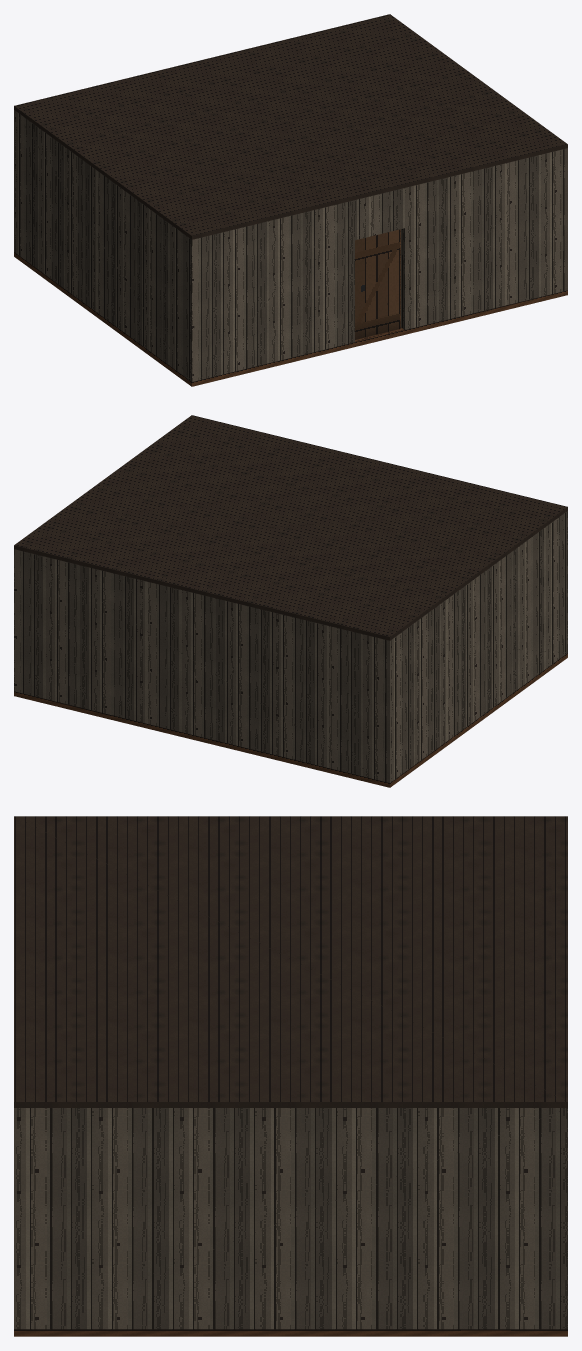
Rendered from armaria.glb.
3 views of the same model, one above another, from view 1: azimuth 30°, elevation 25°; view 2: azimuth 150°, elevation 25°; view 3: azimuth 270°, elevation 25° (orthographic). The views are drawn at different scales.
Visible parts, largest first — view 1: sala-col, teto-col; view 2: sala-col, teto-col; view 3: teto-col, sala-col.
Part boxes in pixels (left/top/right/bottom): sala-col: left=14, top=110, right=567, bottom=386; teto-col: left=14, top=14, right=567, bottom=239; sala-col: left=14, top=511, right=567, bottom=787; teto-col: left=14, top=415, right=567, bottom=640; teto-col: left=14, top=816, right=567, bottom=1107; sala-col: left=14, top=1108, right=567, bottom=1336.
Bounding box in the file's own units: 8.3 × 3.18 × 6.8.
Materials: 21 (21 with a texture image).
